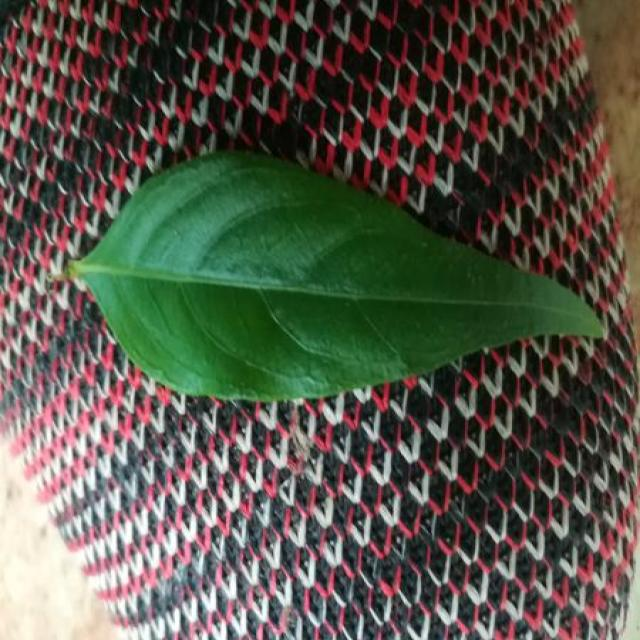Nelavembu: (70, 152, 603, 401)
